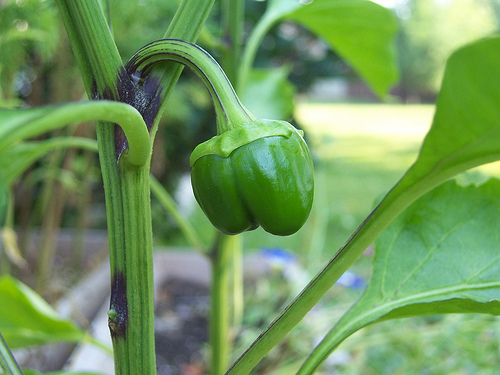capsicum: (188, 119, 317, 237)
